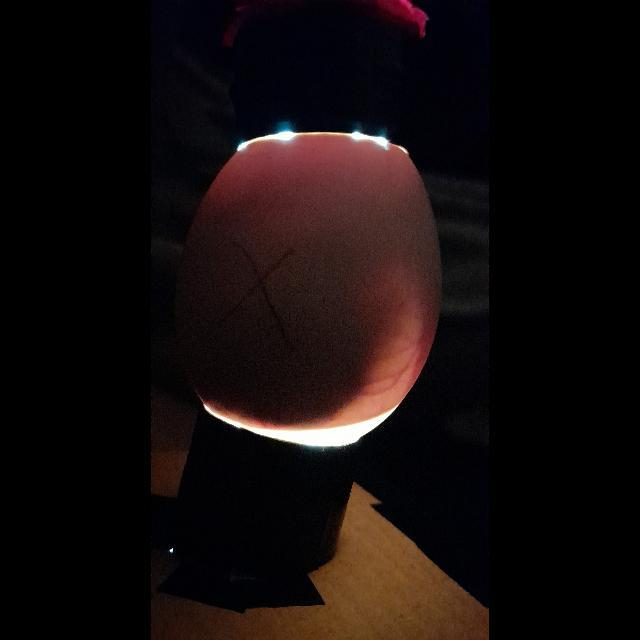Fertile: (182, 132, 440, 450)
